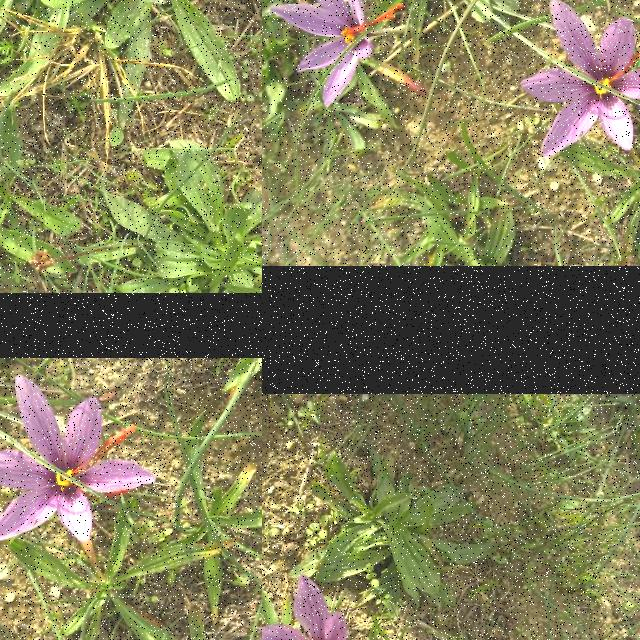flower: (0, 376, 156, 542), (521, 0, 640, 157), (269, 0, 403, 109), (262, 576, 377, 640)
